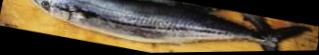fish: (32, 0, 296, 52)
